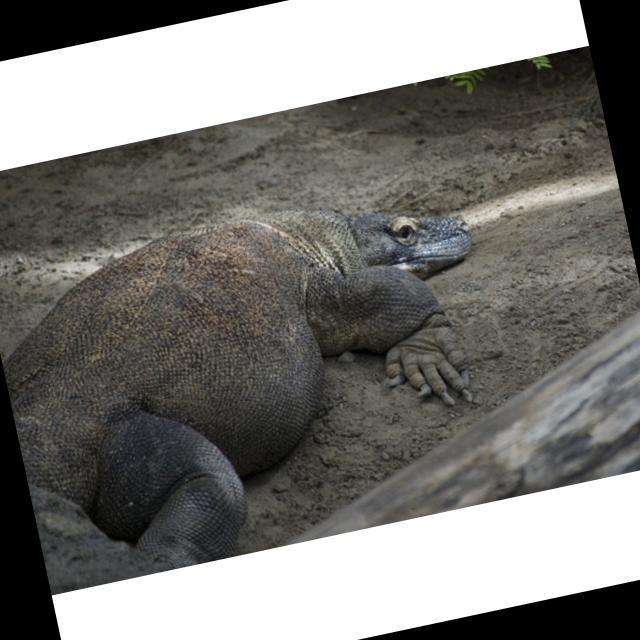KomodoDragon: (0, 170, 522, 593)
